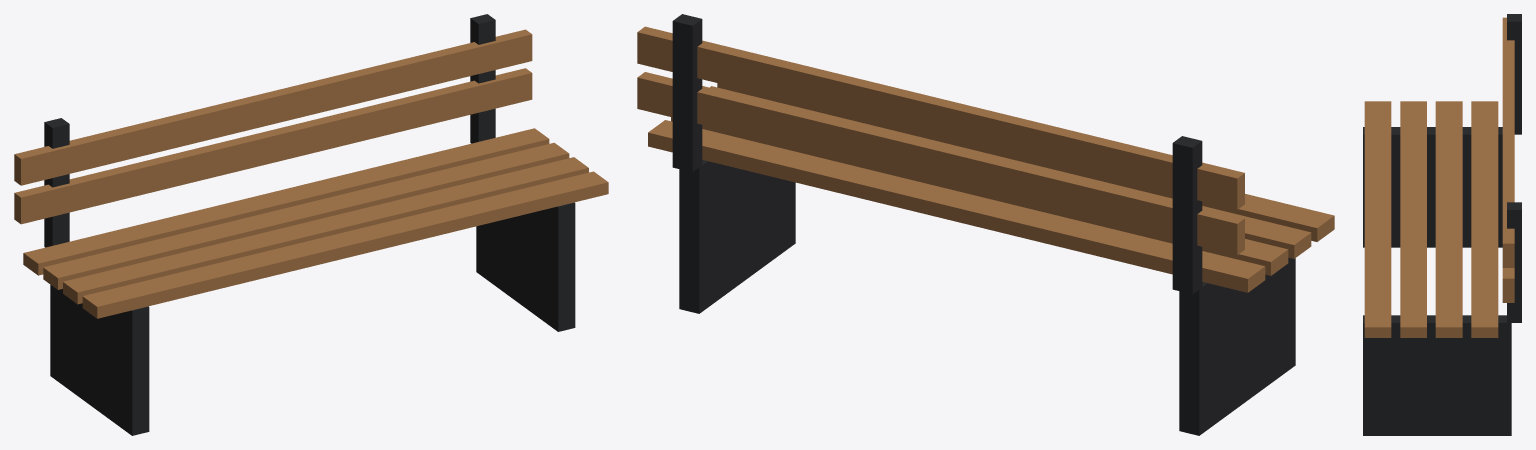
The model's file is PROP_REAL_Bench.glb.
3 views of the same model, side by side, from view 1: azimuth 30°, elevation 25°; view 2: azimuth 150°, elevation 25°; view 3: azimuth 270°, elevation 25° (orthographic). The views are drawn at different scales.
Visible parts, largest first — view 1: PROP_REAL_Bench; view 2: PROP_REAL_Bench; view 3: PROP_REAL_Bench.
Boxes of the visible parts, x1,y1,x2,y2 form: PROP_REAL_Bench: (14, 14, 608, 435); PROP_REAL_Bench: (637, 14, 1334, 435); PROP_REAL_Bench: (1363, 14, 1521, 435).
Size of the model in its own units: 1.8 by 0.84 by 0.535.
